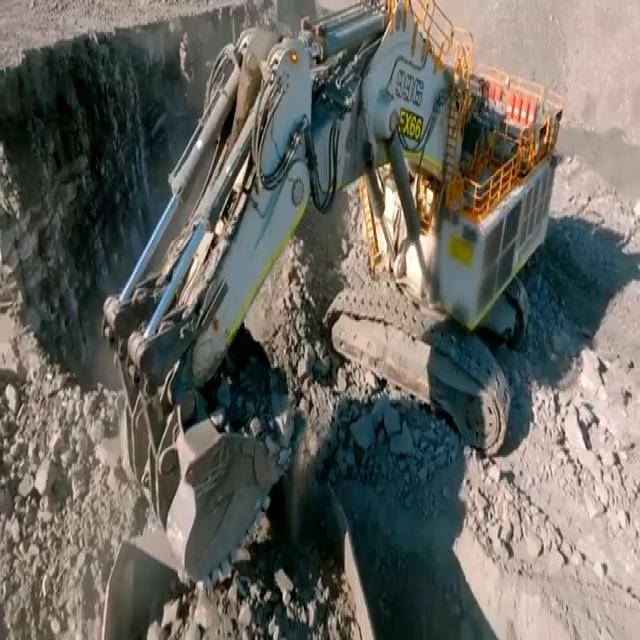excavator: (85, 0, 557, 574)
